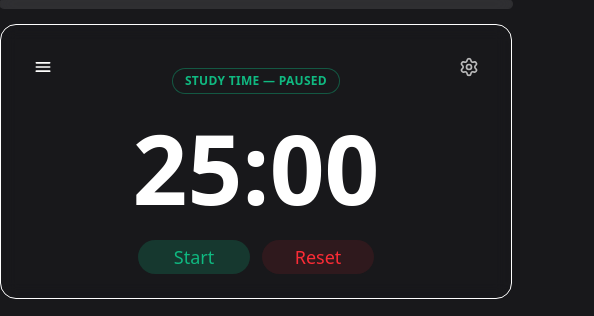
Timer › toggles sidebar menu when hamburger is clicked
This screenshot has width=594, height=316.
What coordinates should you click on to do the following:
click the button titled "Show session tabs"
I would click on:
 (43, 67)
Its box is x1=25 y1=49 x2=61 y2=85.
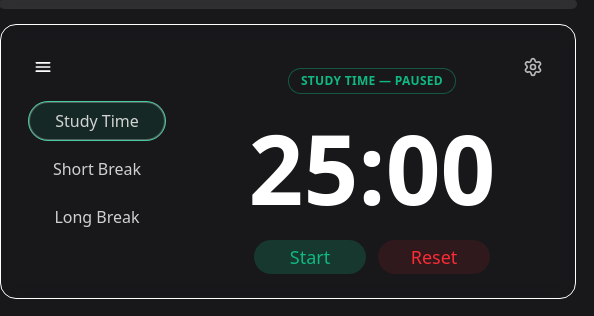
Expected: the tab "Study Time" is shown, x1=28 y1=101 x2=166 y2=141
Expected: the tab "Short Break" is shown, x1=28 y1=149 x2=166 y2=189
Expected: the tab "Long Break" is shown, x1=28 y1=197 x2=166 y2=237
